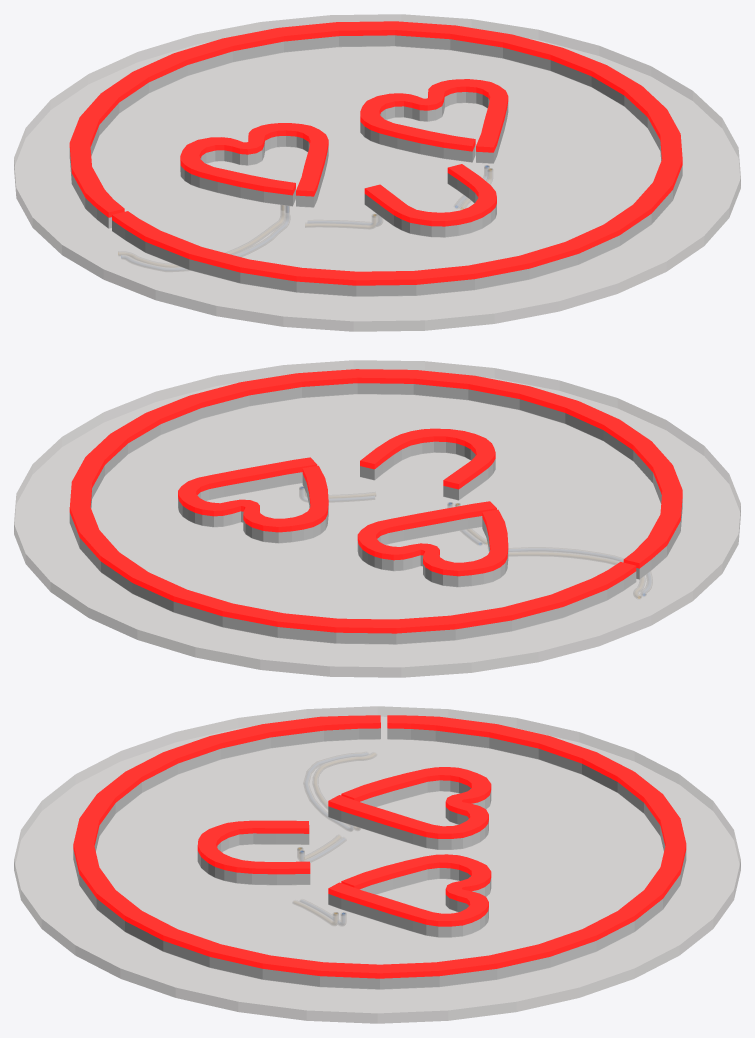
The model's file is hearty.glb.
3 renders of one model, top to bottom at view 1: azimuth 30°, elevation 25°; view 2: azimuth 150°, elevation 25°; view 3: azimuth 270°, elevation 25°, orthographic.
Visible parts, largest first — view 1: Circle.016, Plane.045, Circle.013, Circle.012; view 2: Circle.016, Plane.045, Circle.012, Circle.013; view 3: Circle.016, Plane.045, Circle.012, Circle.013.
Boxes of the visible parts, x1,y1,x2,y2 form: Circle.016: (14, 14, 740, 331); Plane.045: (69, 21, 682, 296); Circle.013: (118, 168, 492, 266); Circle.012: (121, 165, 489, 271); Circle.016: (14, 360, 740, 677); Plane.045: (69, 369, 682, 644); Circle.012: (299, 486, 652, 596); Circle.013: (305, 492, 644, 599); Circle.016: (14, 706, 740, 1023); Plane.045: (73, 715, 686, 989); Circle.012: (299, 752, 368, 925); Circle.013: (293, 752, 376, 925).
Size of the model in its own units: 1.18 by 0.0711 by 1.18.
